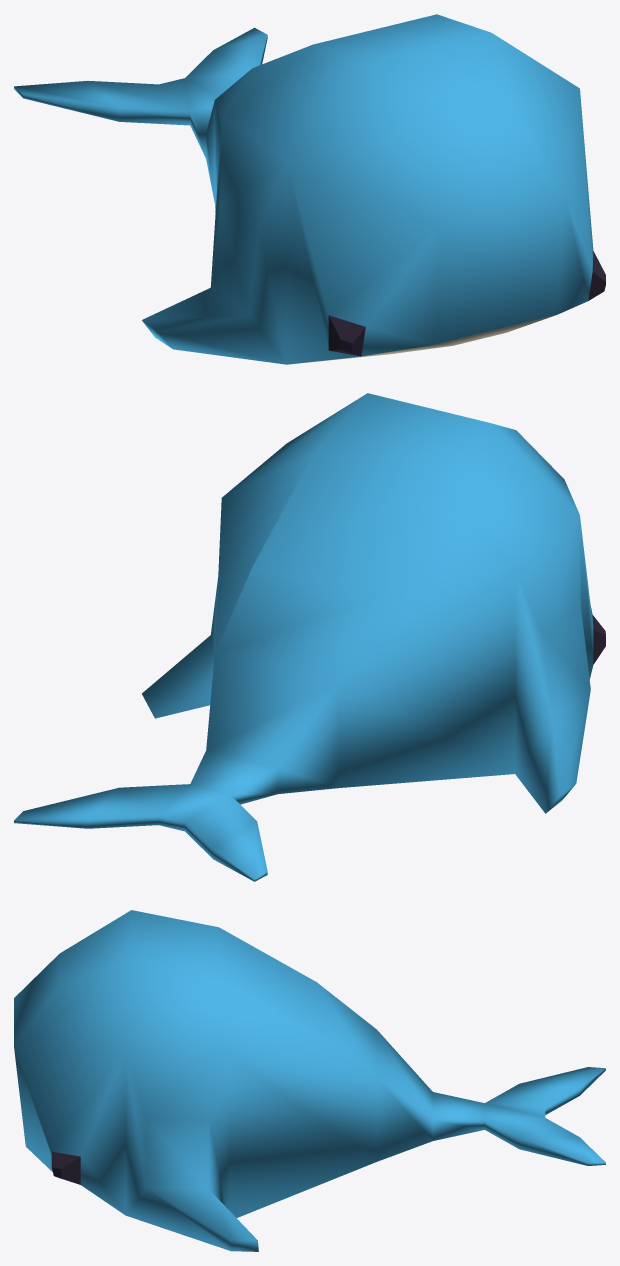
File: whale.fbx
3 views of the same model, one above another, from view 1: azimuth 30°, elevation 25°; view 2: azimuth 150°, elevation 25°; view 3: azimuth 270°, elevation 25° (orthographic). The views are drawn at different scales.
Visible parts, largest first — view 1: Cube; view 2: Cube; view 3: Cube.
Boxes of the visible parts, bbox=[...] form: Cube: bbox=[14, 14, 605, 364]; Cube: bbox=[14, 393, 605, 881]; Cube: bbox=[14, 910, 605, 1251].
Size of the model in its own units: 676 by 463 by 1030.
